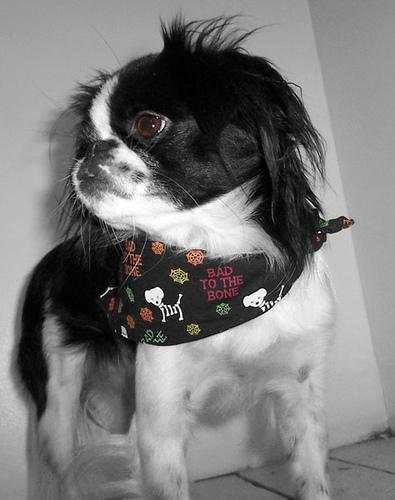dog-japanese_chin: (71, 48, 297, 230)
